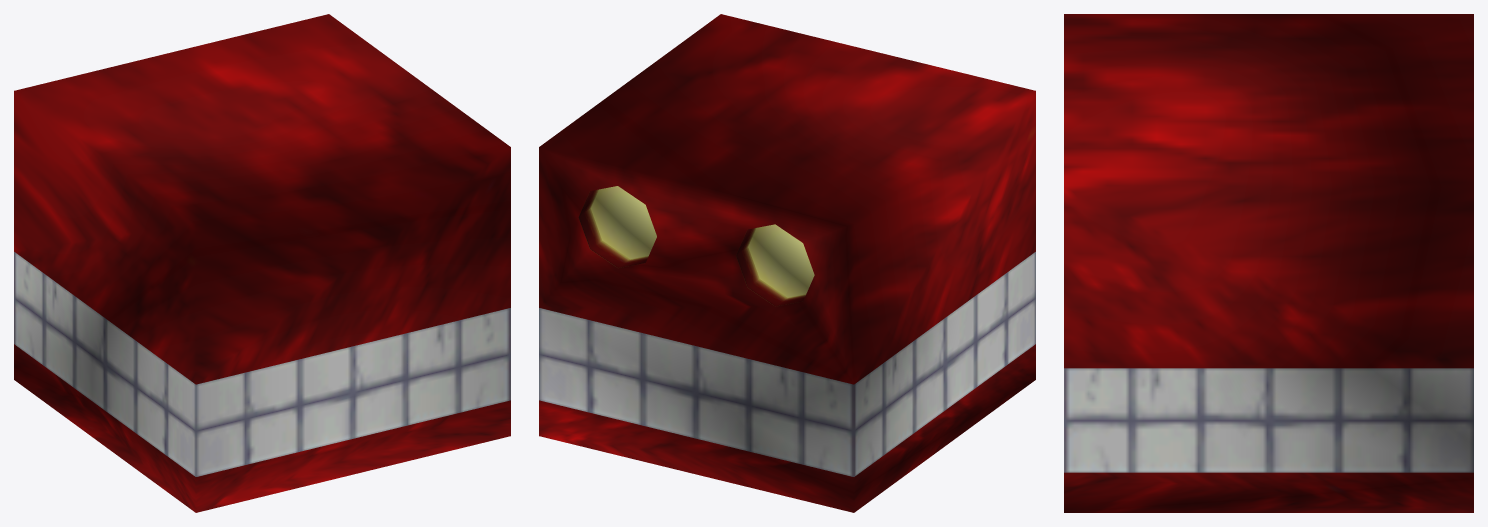
The model's file is ico0.ico.obj.
The picture shows the model from 3 angles, left to right: view 1: azimuth 30°, elevation 25°; view 2: azimuth 150°, elevation 25°; view 3: azimuth 270°, elevation 25°; orthographic projection. The views are drawn at different scales.
Bounding box in the file's own units: 2.48 × 2.18 × 2.48.
Materials: 1 (1 with a texture image).
